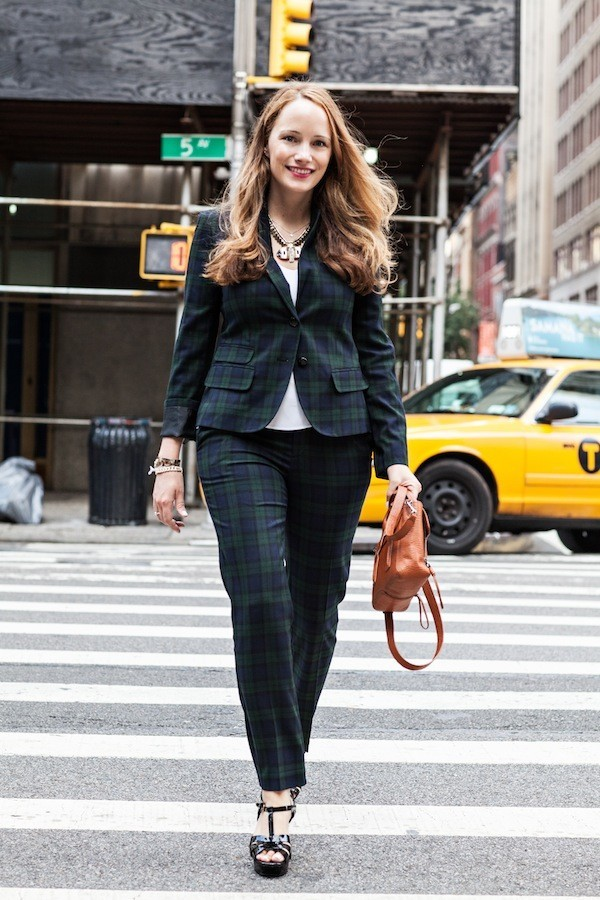F_W_suit jacket: (149, 182, 405, 476)
